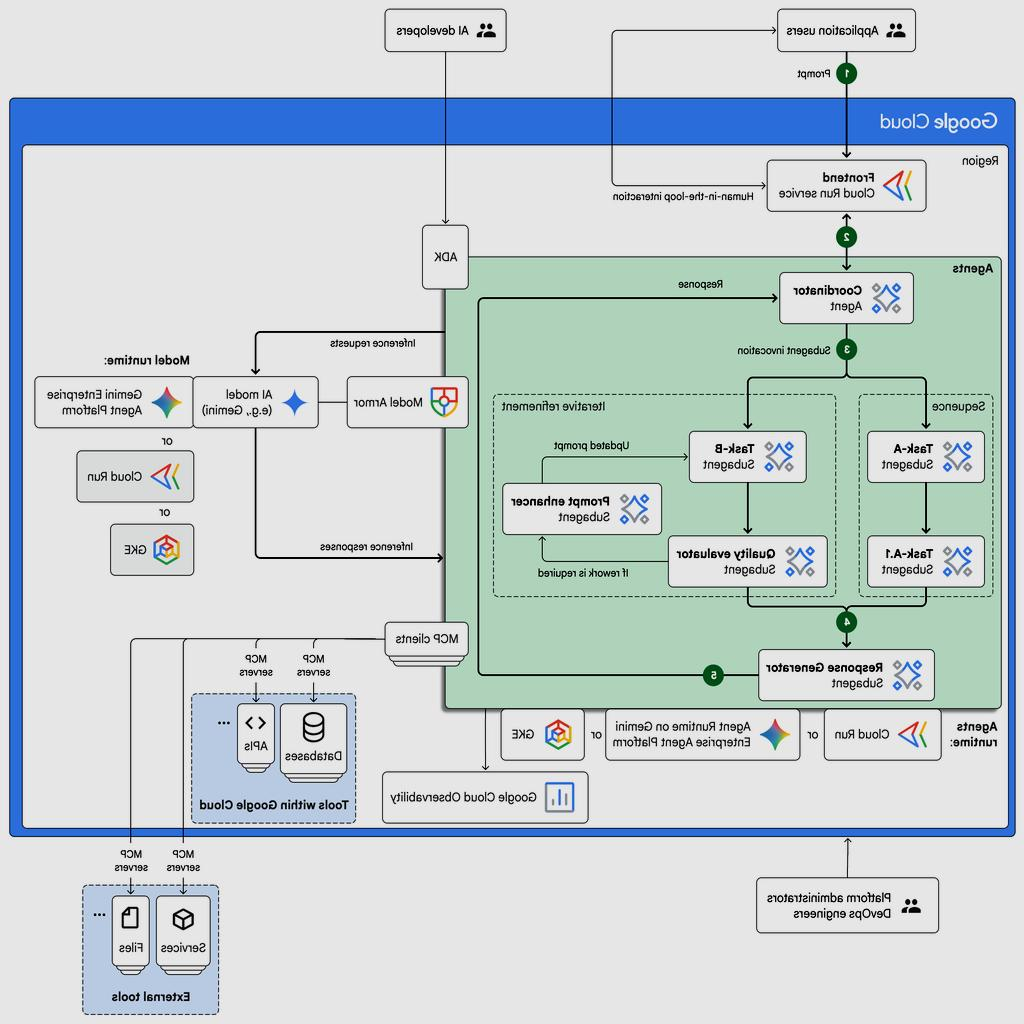actor: (756, 878, 940, 932), (776, 15, 916, 51), (383, 15, 508, 51)
api_gateway: (207, 704, 268, 771)
compute: (383, 776, 590, 822), (606, 712, 801, 758), (766, 162, 926, 215), (758, 648, 934, 694), (776, 268, 916, 322), (504, 485, 666, 531), (34, 376, 196, 422), (194, 376, 318, 422), (825, 712, 944, 758), (868, 434, 985, 480), (868, 537, 985, 583), (691, 434, 808, 480), (691, 537, 808, 583), (78, 458, 198, 494), (154, 900, 215, 968), (500, 712, 584, 758), (422, 218, 469, 284), (110, 531, 196, 567)
data_flow: (443, 244, 448, 612), (453, 186, 766, 191), (128, 550, 134, 791), (464, 668, 744, 673), (182, 550, 187, 791), (261, 552, 439, 558), (266, 330, 434, 336), (846, 376, 1008, 382), (685, 376, 847, 382), (512, 292, 674, 298), (750, 581, 928, 586), (128, 791, 134, 929), (182, 791, 187, 929), (604, 443, 723, 448), (443, 8, 448, 126), (610, 132, 615, 245), (484, 696, 489, 774), (585, 479, 648, 484), (634, 270, 640, 320), (844, 82, 848, 154), (924, 480, 929, 536), (747, 480, 752, 536), (582, 532, 587, 588), (312, 642, 317, 698), (256, 642, 260, 698), (639, 558, 692, 562), (322, 397, 364, 402), (844, 320, 848, 372), (846, 826, 850, 878), (924, 589, 929, 630), (747, 589, 752, 630), (254, 422, 258, 468), (844, 606, 848, 647), (844, 51, 848, 82), (844, 225, 848, 256)
database_storage: (276, 704, 354, 771), (102, 900, 154, 968)
network_security: (349, 376, 468, 422)
trust_boundary: (9, 98, 1017, 838), (19, 129, 1007, 838), (444, 254, 1004, 706), (498, 395, 838, 598), (859, 395, 994, 598), (192, 692, 358, 820), (81, 886, 222, 1014)
